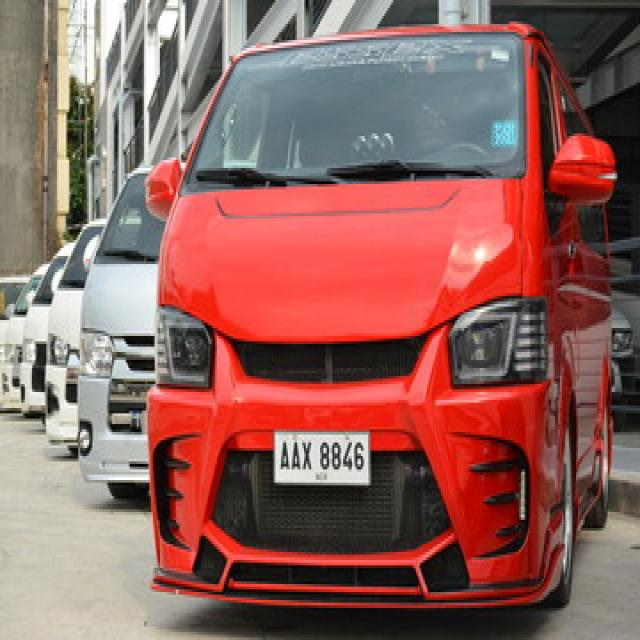van: (146, 24, 615, 608), (78, 165, 164, 499), (46, 221, 103, 453), (20, 243, 71, 416), (2, 264, 46, 411)
